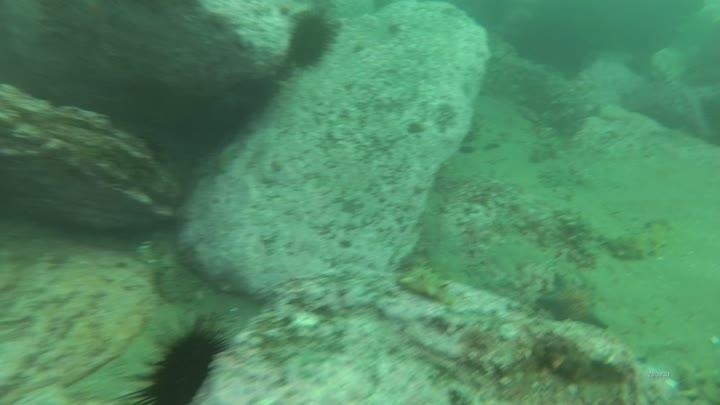echinus: (132, 319, 232, 405), (285, 9, 340, 71)
holothurian: (529, 333, 636, 388), (600, 216, 676, 265), (395, 260, 461, 309), (555, 207, 602, 267)
starfish: (535, 271, 612, 333)
